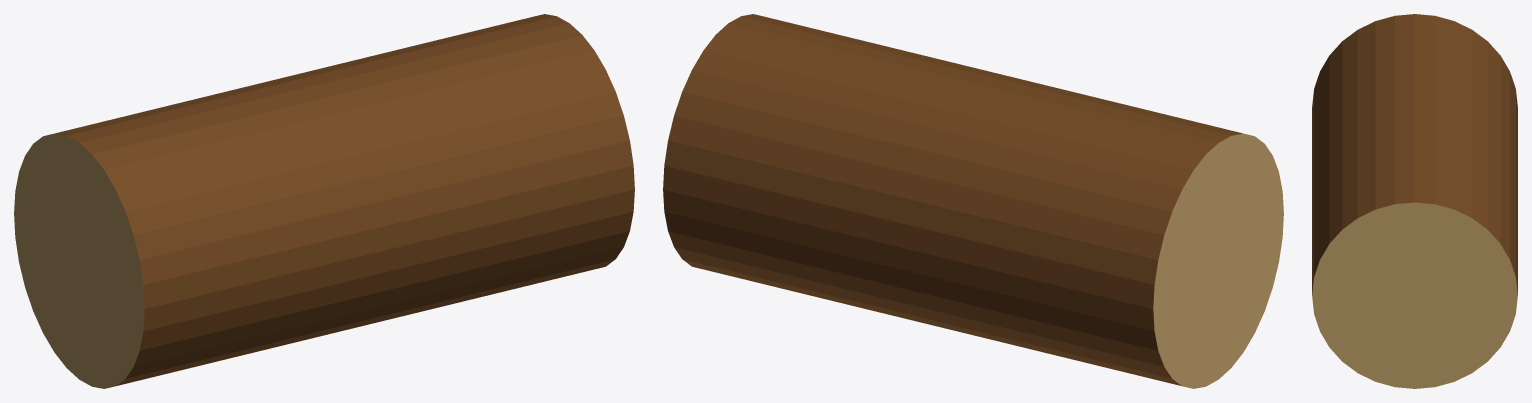
Rendered from Log.fbx.
The picture shows the model from 3 angles, left to right: view 1: azimuth 30°, elevation 25°; view 2: azimuth 150°, elevation 25°; view 3: azimuth 270°, elevation 25°; orthographic projection. The views are drawn at different scales.
Visible parts, largest first — view 1: Cylinder; view 2: Cylinder; view 3: Cylinder.
Part boxes in pixels (<box>): Cylinder: <box>14,14,634,388</box>; Cylinder: <box>663,14,1283,388</box>; Cylinder: <box>1312,14,1517,388</box>.
Size of the model in its own units: 45.08 by 20.8 by 20.8.
